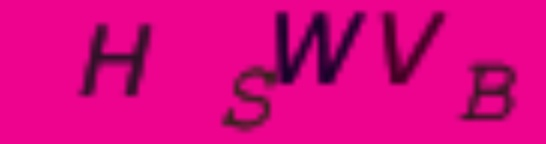B: (459, 60, 519, 124)
H: (76, 19, 156, 99)
S: (219, 67, 278, 132)
V: (377, 8, 452, 85)
W: (274, 7, 366, 87)
